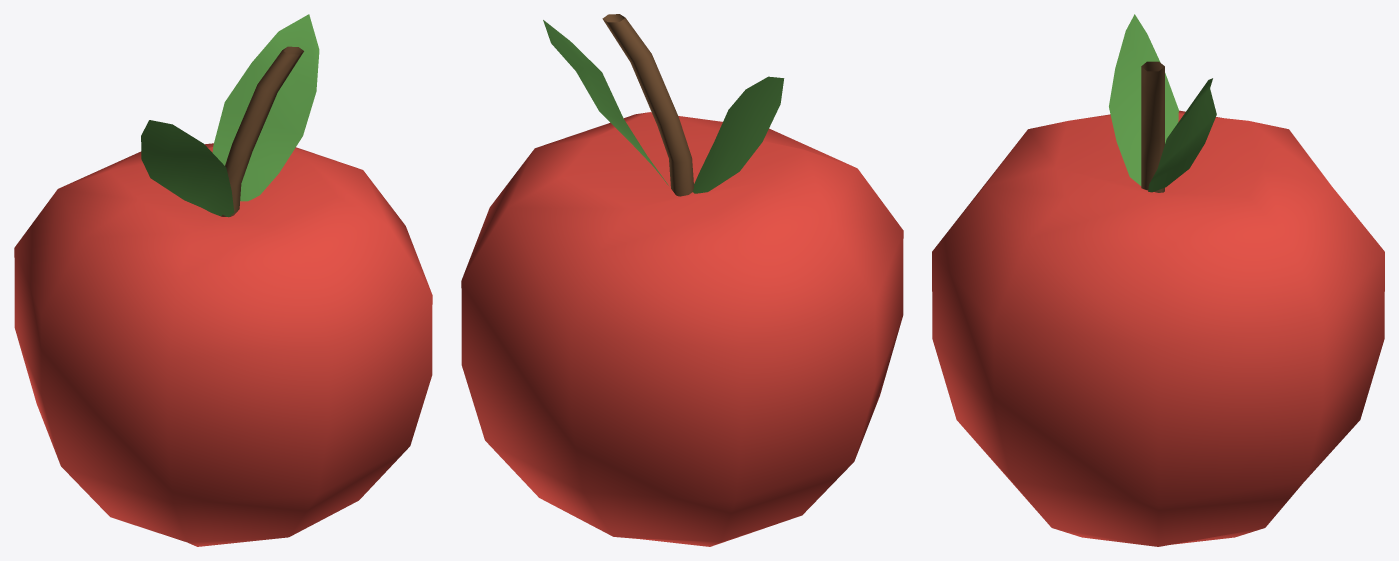
Rendered from apple.glb.
3 renders of one model, left to right at view 1: azimuth 30°, elevation 25°; view 2: azimuth 150°, elevation 25°; view 3: azimuth 270°, elevation 25°, orthographic. The views are drawn at different scales.
Visible parts, largest first — view 1: Apple_Fruit, Apple_Leaf, Apple_Stem; view 2: Apple_Fruit, Apple_Leaf, Apple_Stem; view 3: Apple_Fruit, Apple_Leaf, Apple_Stem.
Part boxes in pixels (bbox=[...]): Apple_Fruit: bbox=[14, 143, 432, 546]; Apple_Leaf: bbox=[141, 14, 319, 217]; Apple_Stem: bbox=[221, 46, 303, 216]; Apple_Fruit: bbox=[461, 112, 903, 546]; Apple_Leaf: bbox=[543, 20, 784, 193]; Apple_Stem: bbox=[602, 14, 693, 196]; Apple_Fruit: bbox=[932, 110, 1384, 546]; Apple_Leaf: bbox=[1109, 14, 1216, 192]; Apple_Stem: bbox=[1141, 61, 1164, 192].
Size of the model in its own units: 0.3711 by 0.44 by 0.3711.
